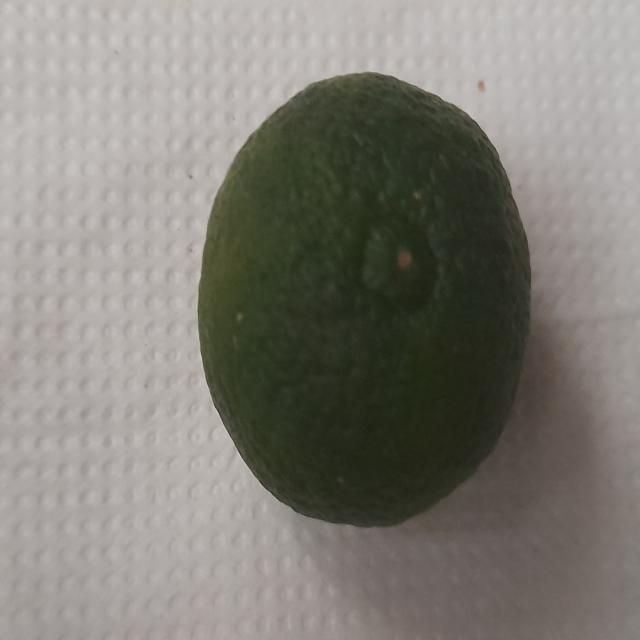heathy: (198, 67, 538, 530)
